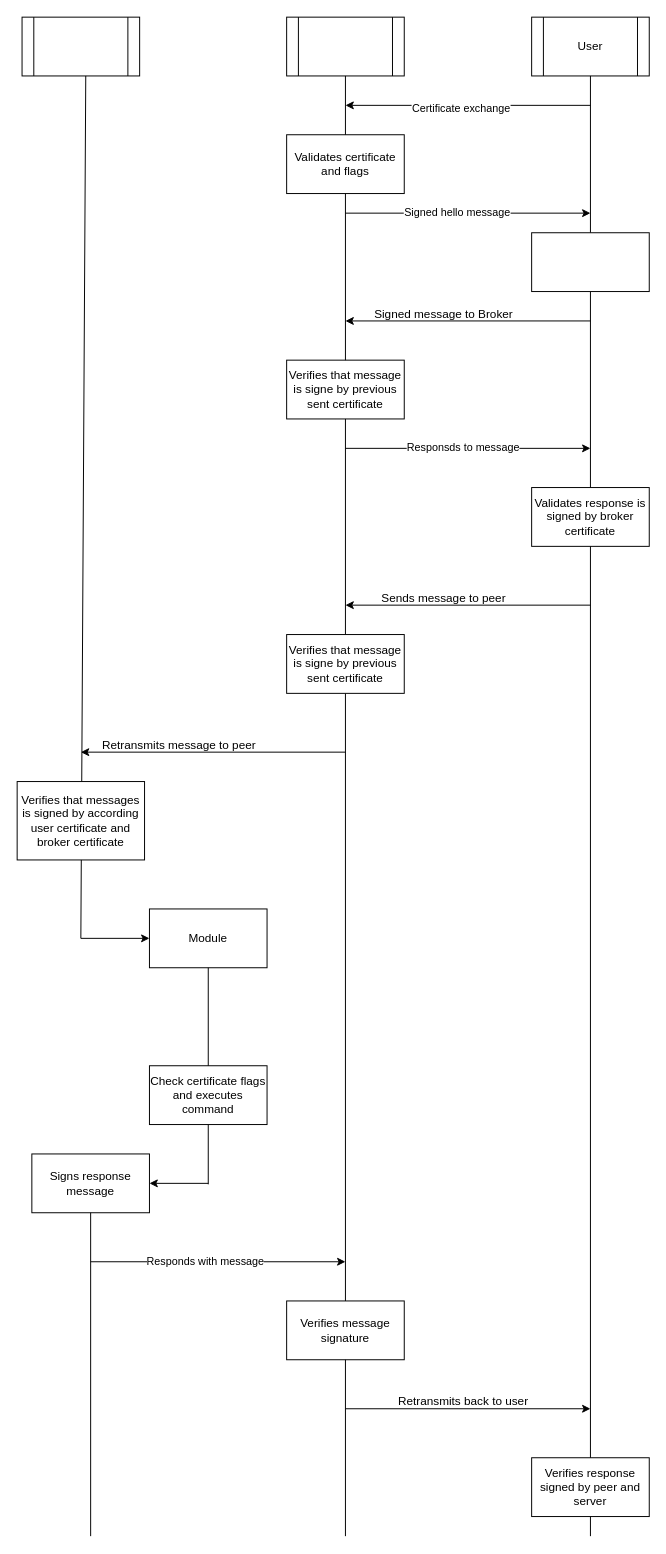
This 666x1554 diagram has some shape labels left out. The centre of each missing label's shape, as x and y in pixels:
"Broker" goes at pixel 345 46.
"Peer" goes at pixel 80 46.
"Validate Hello message" goes at pixel 590 262.
